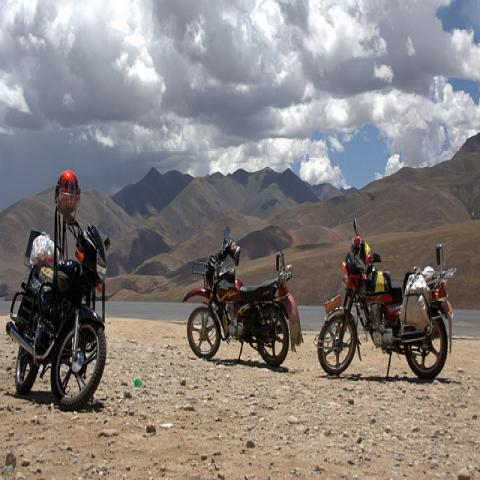motorcycle: (315, 216, 456, 382), (10, 208, 110, 413), (184, 227, 303, 367)
